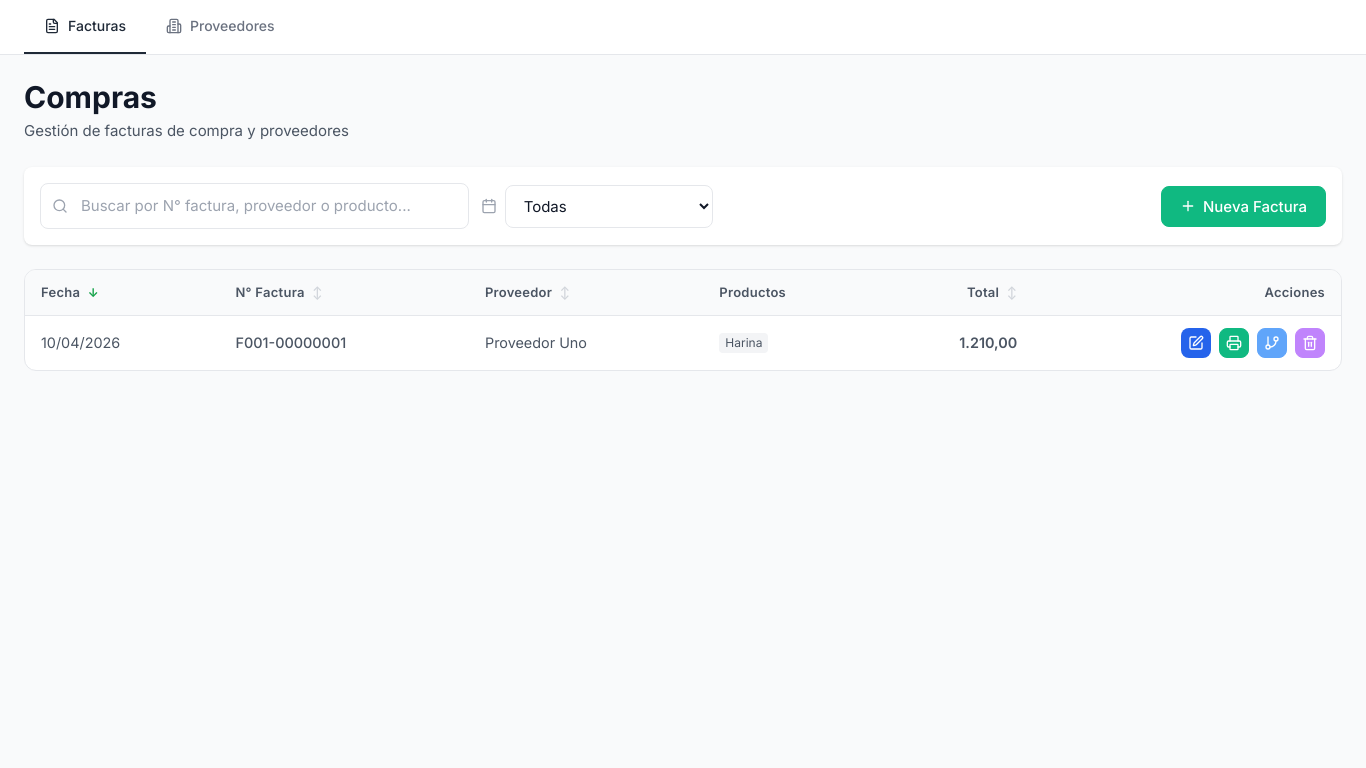
Test: Compras › abre el modal en modo edición con los datos de la factura
Expected: the text "F001-00000001" is shown, x1=236 y1=334 x2=346 y2=351
Note: Click en el botón de editar (primero)
Step 1. Click the button titled "Editar" → (1196,343), box x1=1181 y1=328 x2=1211 y2=358
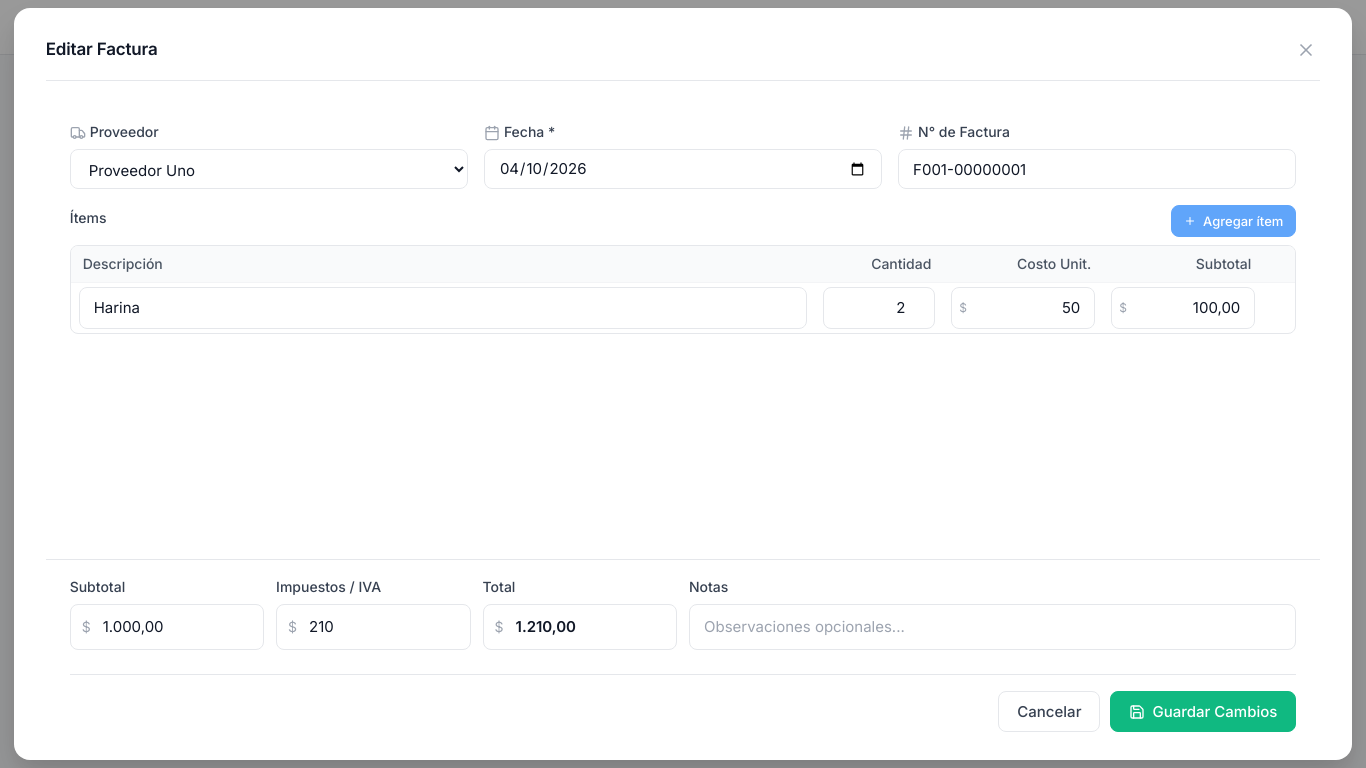
Result: the heading "Editar Factura" is shown at x1=46 y1=36 x2=158 y2=63
Result: the field showing "F001-00000001" below "N° de Factura" is shown at x1=898 y1=149 x2=1296 y2=189
